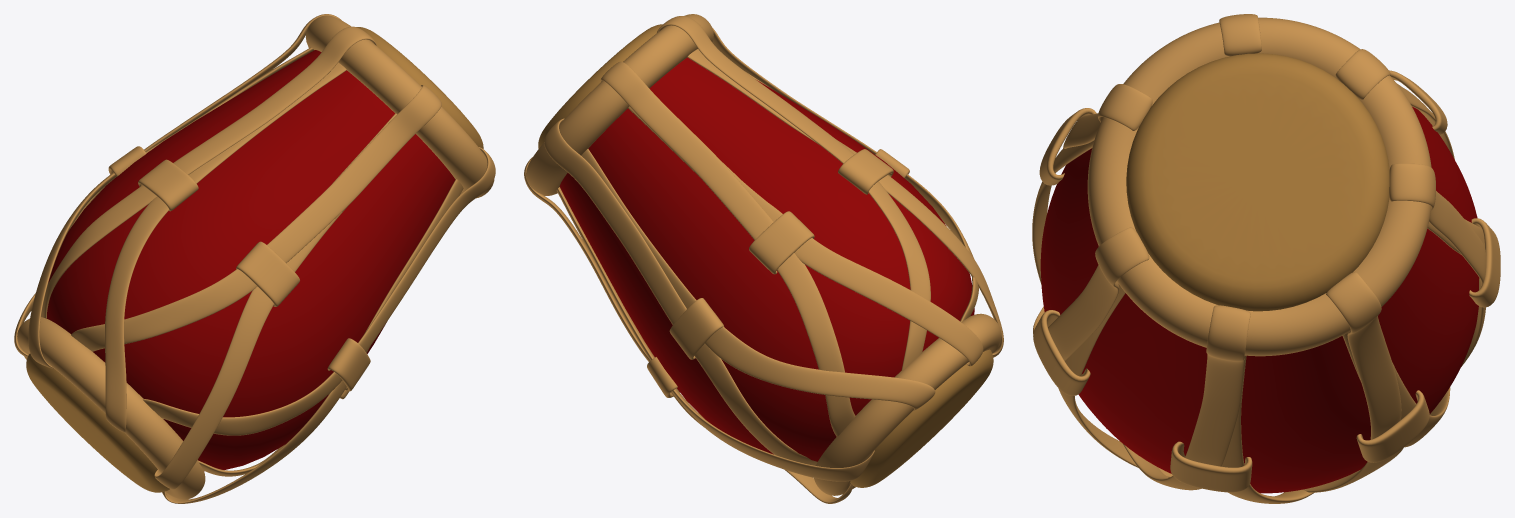
File: Gendang.fbx
3 renders of one model, left to right at view 1: azimuth 30°, elevation 25°; view 2: azimuth 150°, elevation 25°; view 3: azimuth 270°, elevation 25°, orthographic. The views are drawn at different scales.
Parts seen in each view (by area): view 1: Udel, Tali Rarawat, Wengku, Wengku.001, Ali-ali, Wangkis.001, Wangkis; view 2: Udel, Tali Rarawat, Wengku, Wengku.001, Ali-ali, Wangkis.001, Wangkis; view 3: Wangkis, Udel, Tali Rarawat, Wengku, Ali-ali.
Boxes of the visible parts, x1,y1,x2,y2 form: Udel: (46, 50, 455, 471); Tali Rarawat: (14, 14, 495, 503); Wengku: (305, 15, 494, 198); Wengku.001: (17, 317, 205, 499); Ali-ali: (108, 146, 370, 399); Wangkis.001: (26, 353, 169, 492); Wangkis: (356, 27, 483, 148); Udel: (559, 57, 974, 461); Tali Rarawat: (524, 16, 1003, 503); Wengku: (526, 14, 713, 195); Wengku.001: (814, 313, 1001, 495); Ali-ali: (647, 149, 909, 397); Wangkis.001: (850, 349, 993, 487); Wangkis: (538, 24, 662, 148); Wangkis: (1126, 53, 1389, 311); Udel: (1040, 106, 1479, 493); Tali Rarawat: (1032, 14, 1486, 503); Wengku: (1087, 17, 1431, 356); Ali-ali: (1033, 70, 1500, 492).
Size of the model in its own units: 184 by 168 by 122.
